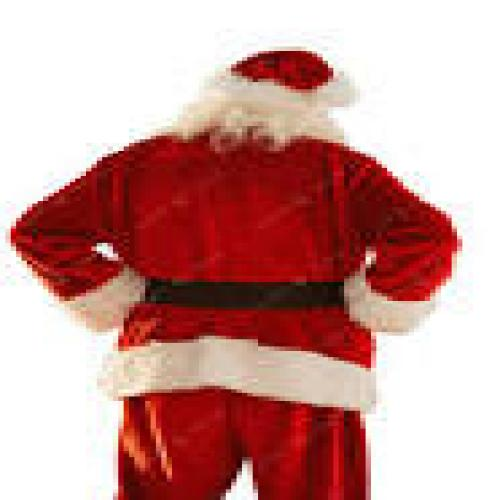Santa: (10, 45, 462, 500)
